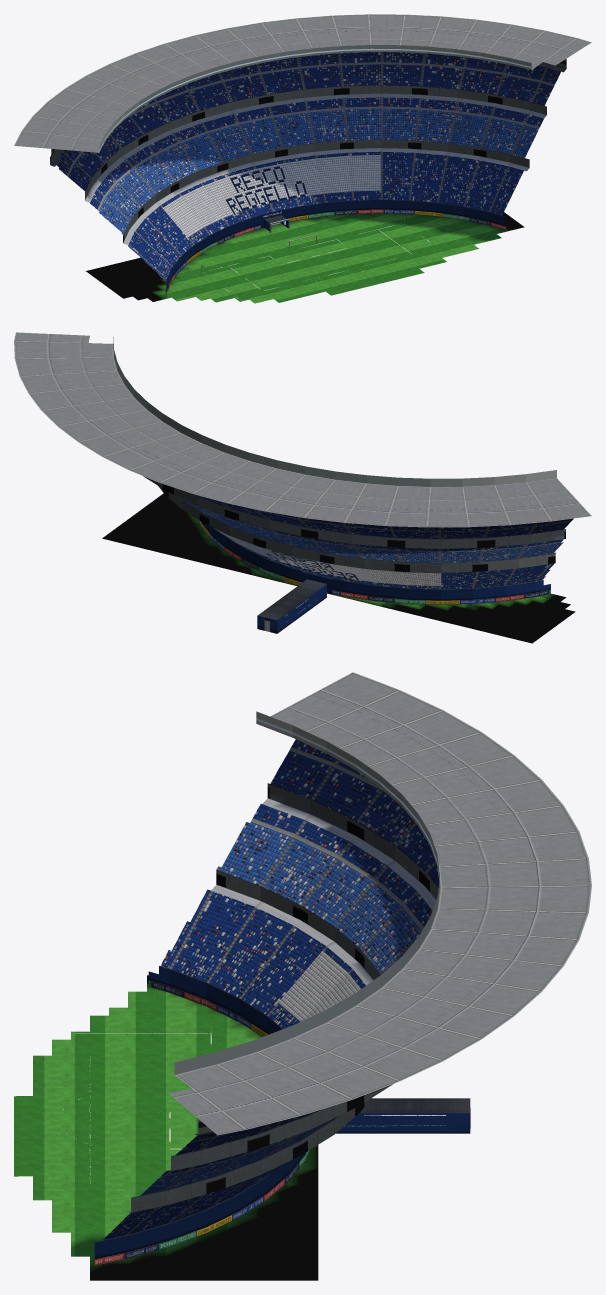
Rendered from tunnel.glb.
3 views of the same model, one above another, from view 1: azimuth 30°, elevation 25°; view 2: azimuth 150°, elevation 25°; view 3: azimuth 270°, elevation 25° (orthographic). The views are drawn at different scales.
Parts seen in each view (by area): view 1: T_Esterno_Spalti, T_Esterno_TettoSotto, T_Esterno_Erba, T_Esterno_SpaltiNome, T_Esterno_Muro, T_Esterno_Cemento, T_Esterno_MuroBase, T_Esterno_TettoFascia, T_Esterno_Cartelloni, T_Esterno_TettoLed; view 2: T_Esterno_TettoSotto, T_Esterno_Spalti, T_Esterno_Erba, T_Esterno_Muro, T_Esterno_TettoFascia, T_Esterno_MuroBase, T_Esterno_SpaltiNome, T_Esterno_Cartelloni, T_Tunnel_Soffitto, T_Tunnel_Muro; view 3: T_Esterno_TettoSotto, T_Esterno_Erba, T_Esterno_Spalti, T_Esterno_Muro, T_Esterno_MuroBase, T_Esterno_TettoFascia, T_Esterno_SpaltiNome, T_Esterno_Cemento, T_Tunnel_Muro, T_Esterno_Cartelloni, T_Tunnel_Soffitto.
Boxes of the visible parts, box(x1,y1,x2,y2) form: T_Esterno_Spalti: box(56, 52, 560, 280); T_Esterno_TettoSotto: box(14, 14, 591, 152); T_Esterno_Erba: box(86, 212, 524, 303); T_Esterno_SpaltiNome: box(160, 151, 380, 244); T_Esterno_Muro: box(85, 85, 546, 242); T_Esterno_Cemento: box(50, 62, 566, 245); T_Esterno_MuroBase: box(165, 199, 506, 294); T_Esterno_TettoFascia: box(99, 45, 531, 152); T_Esterno_Cartelloni: box(165, 209, 506, 298); T_Esterno_TettoLed: box(99, 48, 531, 150); T_Esterno_TettoSotto: box(14, 332, 591, 527); T_Esterno_Spalti: box(179, 494, 573, 589); T_Esterno_Erba: box(102, 493, 575, 643); T_Esterno_Muro: box(143, 476, 565, 572); T_Esterno_TettoFascia: box(113, 337, 556, 486); T_Esterno_MuroBase: box(201, 521, 550, 600); T_Esterno_SpaltiNome: box(214, 528, 441, 589); T_Esterno_Cartelloni: box(198, 520, 550, 604); T_Tunnel_Soffitto: box(258, 579, 326, 620); T_Tunnel_Muro: box(257, 584, 326, 633); T_Esterno_TettoSotto: box(169, 672, 591, 1135); T_Esterno_Erba: box(14, 975, 318, 1280); T_Esterno_Spalti: box(103, 739, 438, 1239); T_Esterno_Muro: box(131, 783, 438, 1212); T_Esterno_MuroBase: box(94, 966, 305, 1258); T_Esterno_TettoFascia: box(174, 711, 439, 1074); T_Esterno_SpaltiNome: box(267, 946, 365, 1111); T_Esterno_Cemento: box(127, 798, 435, 1212); T_Tunnel_Muro: box(336, 1113, 470, 1133); T_Esterno_Cartelloni: box(94, 980, 310, 1265); T_Tunnel_Soffitto: box(360, 1098, 470, 1112).
Bounding box in the file's own units: 144 × 36.41 × 76.
Materials: 37 (15 with a texture image).
